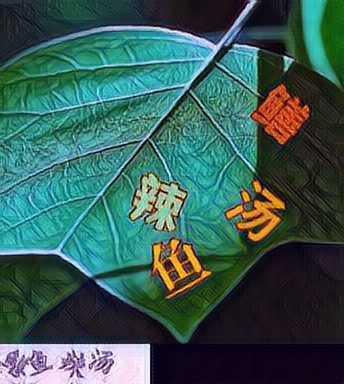C0B1: (126, 165, 189, 232)
CCC0: (222, 178, 285, 245)
D3E3: (150, 234, 213, 301)
F7AD: (248, 81, 311, 148)
